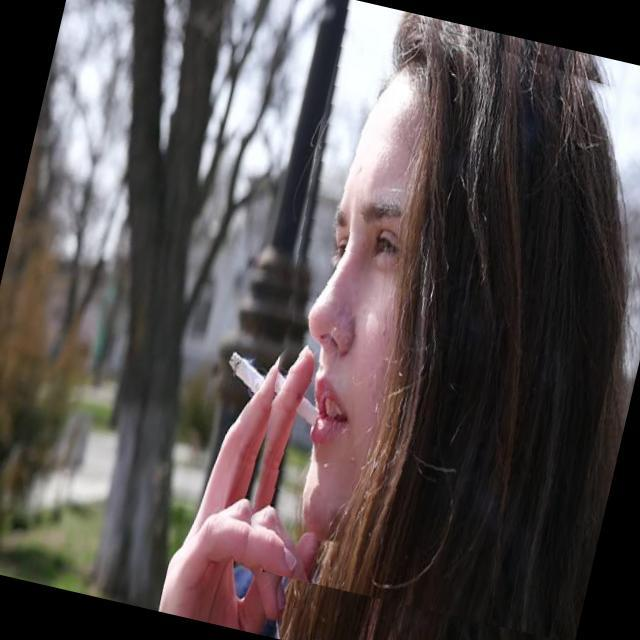cigarette: (199, 309, 325, 446)
